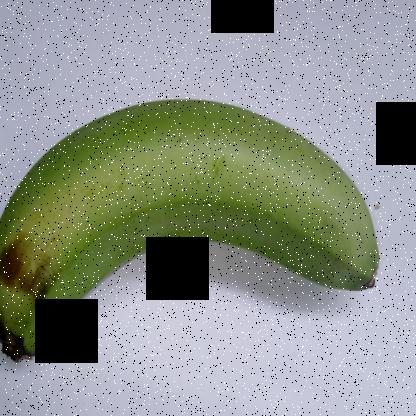freshunripe: (1, 89, 392, 375)
